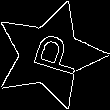P_W: (18, 29, 80, 81)
